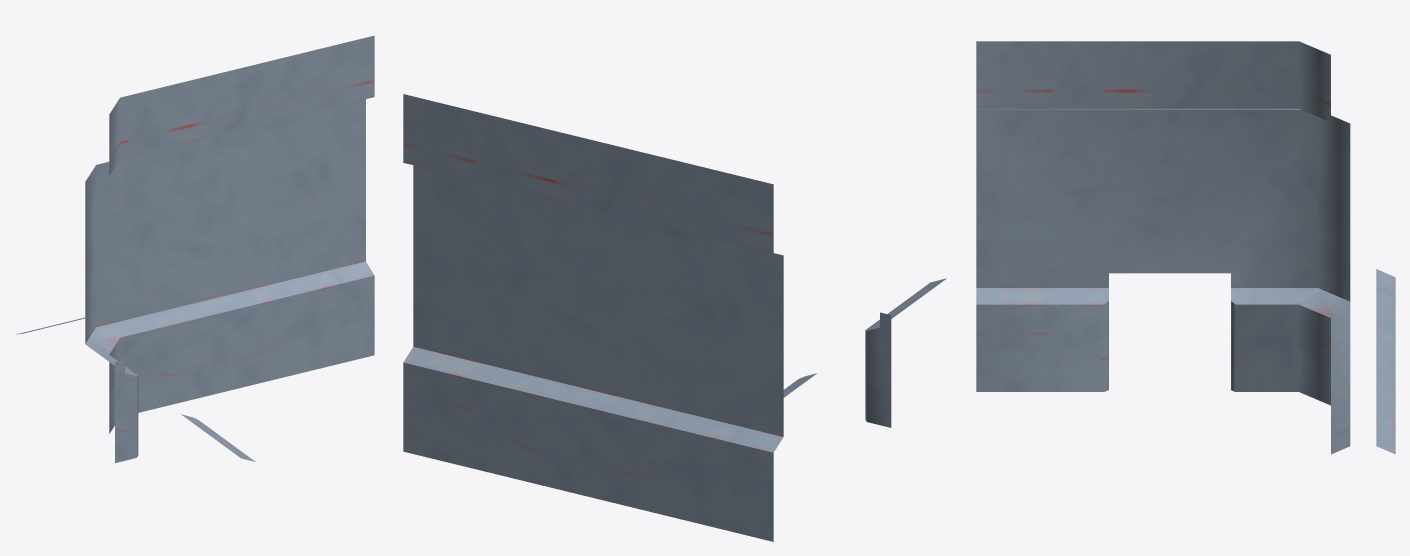
The model's file is Wall_MTNDoorCorner_B_1.glb.
3 renders of one model, left to right at view 1: azimuth 30°, elevation 25°; view 2: azimuth 150°, elevation 25°; view 3: azimuth 270°, elevation 25°, orthographic. The views are drawn at different scales.
Parts seen in each view (by area): view 1: Wall_MTNDoorCorner_B_1; view 2: Wall_MTNDoorCorner_B_1; view 3: Wall_MTNDoorCorner_B_1.
Part boxes in pixels (x1=…): Wall_MTNDoorCorner_B_1: x1=16, y1=35, x2=374, y2=462; Wall_MTNDoorCorner_B_1: x1=403, y1=94, x2=946, y2=541; Wall_MTNDoorCorner_B_1: x1=976, y1=41, x2=1395, y2=454.
Size of the model in its own units: 6.5 by 6 by 6.5.
1 material, 1 textured.
